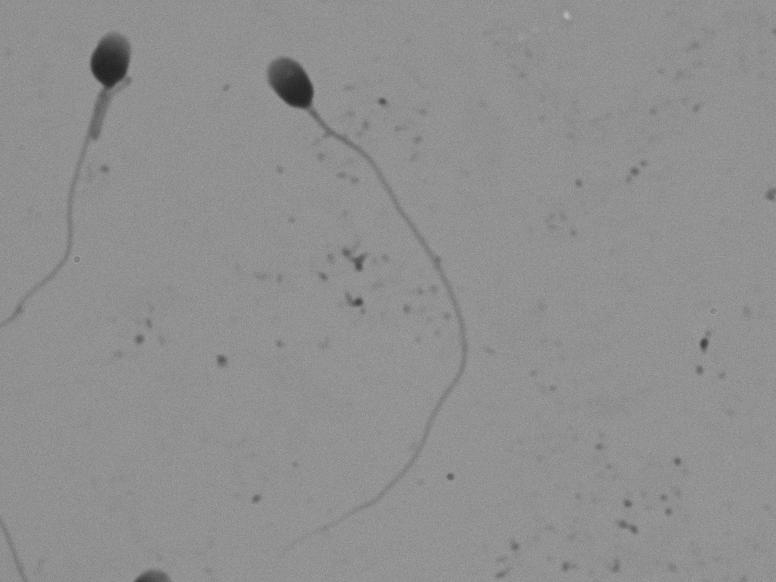Abnormal: (18, 13, 183, 349)
Normal: (223, 41, 524, 545)
